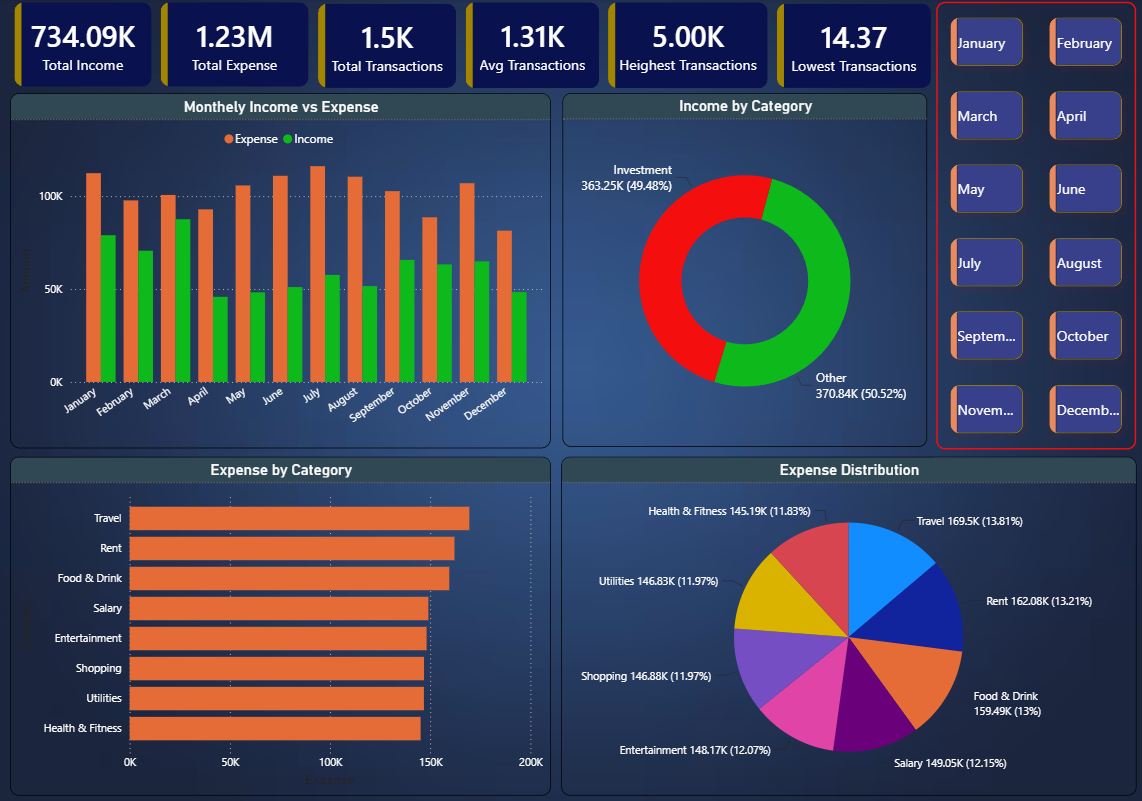

This screenshot's page, from the dashboard's own definition file:
{"tool":"powerbi","page":{"name":"Page 1","canvas":[1280,900],"ordinal":0},"visuals":[{"type":"cardVisual","fields":{"Data":["Sum(Personal_Finance_Dataset.Amount)"]},"box":[174.5,0,175.9,104.7],"z":0},{"type":"cardVisual","fields":{"Data":["Sum(Personal_Finance_Dataset.Amount)"]},"box":[11.2,0,163.3,104.7],"z":1000},{"type":"cardVisual","fields":{"Data":["CountNonNull(Personal_Finance_Dataset.Amount)"]},"box":[350.3,1.4,164.7,104.7],"z":2000},{"type":"cardVisual","fields":{"Data":["Avg(Personal_Finance_Dataset.Amount)"]},"box":[515,0,159.1,106.1],"z":3000},{"type":"cardVisual","fields":{"Data":["Min(Personal_Finance_Dataset.Amount)"]},"box":[862.6,1.4,182.8,104.7],"z":4000},{"type":"cardVisual","fields":{"Data":["Max(Personal_Finance_Dataset.Amount)"]},"box":[674.2,0,188.4,106.1],"z":5000},{"type":"clusteredColumnChart","title":"Monthely Income vs Expense","fields":{"Category":["Personal_Finance_Dataset.Date.Variation.Date Hierarchy.Month"],"Y":["Sum(Personal_Finance_Dataset.Amount)"],"Series":["Personal_Finance_Dataset.Type"]},"box":[11.2,106.1,604.4,396.4],"z":6000},{"type":"clusteredBarChart","title":"Expense by Category ","fields":{"Y":["Sum(Personal_Finance_Dataset.Amount)"],"Category":["Personal_Finance_Dataset.Category"]},"box":[11.2,512.3,604.4,378.3],"z":7000},{"type":"pieChart","title":"Expense Distribution","fields":{"Category":["Personal_Finance_Dataset.Category"],"Y":["Sum(Personal_Finance_Dataset.Amount)"]},"box":[626.7,512,642.1,378.3],"z":8000},{"type":"donutChart","title":"Income by Category","fields":{"Category":["Personal_Finance_Dataset.Category"],"Y":["Sum(Personal_Finance_Dataset.Amount)"]},"box":[628.1,106.1,407.6,395],"z":9000},{"type":"advancedSlicerVisual","fields":{"Values":["Personal_Finance_Dataset.Date.Variation.Date Hierarchy.Month"]},"box":[1045.4,4,223.3,499.7],"z":10000}]}

Visuals, with their boxes in screenshot pixels (x1, y1, x2, y2), scaled from the page's 1280x900 canvas onto the 1142x801 screenshot:
cardVisual - Sum(Personal_Finance_Dataset.Amount): bbox=[156, 0, 313, 93]
cardVisual - Sum(Personal_Finance_Dataset.Amount): bbox=[10, 0, 156, 93]
cardVisual - CountNonNull(Personal_Finance_Dataset.Amount): bbox=[313, 1, 459, 94]
cardVisual - Avg(Personal_Finance_Dataset.Amount): bbox=[459, 0, 601, 94]
cardVisual - Min(Personal_Finance_Dataset.Amount): bbox=[770, 1, 933, 94]
cardVisual - Max(Personal_Finance_Dataset.Amount): bbox=[602, 0, 770, 94]
"Monthely Income vs Expense" clusteredColumnChart: bbox=[10, 94, 549, 447]
"Expense by Category " clusteredBarChart: bbox=[10, 456, 549, 793]
"Expense Distribution" pieChart: bbox=[559, 456, 1132, 792]
"Income by Category" donutChart: bbox=[560, 94, 924, 446]
advancedSlicerVisual - Personal_Finance_Dataset.Date.Variation.Date Hierarchy.Month: bbox=[933, 4, 1132, 448]
